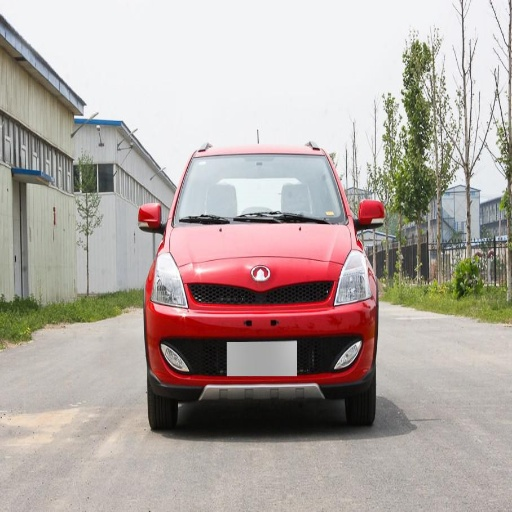front_bumper: (154, 258, 376, 390)
front_right_light: (152, 262, 184, 306)
hood: (163, 224, 356, 268)
